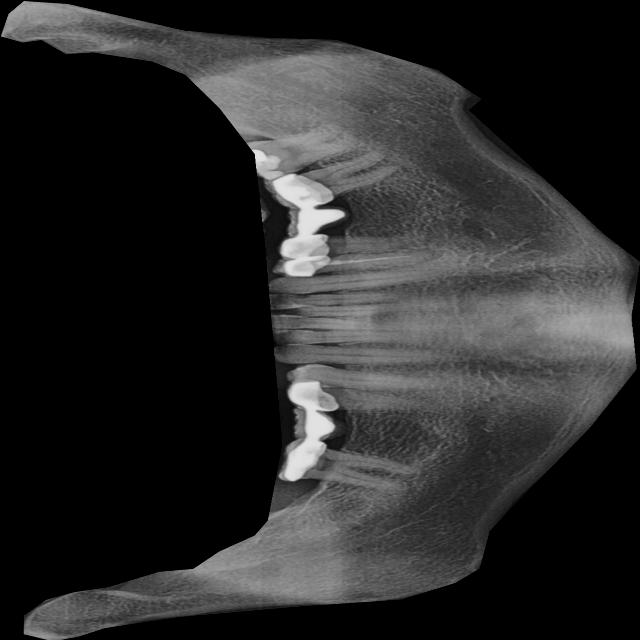mandibula: (1, 0, 640, 640)
